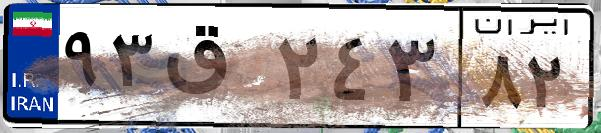2: (270, 28, 330, 110), (525, 38, 570, 115)
3: (385, 28, 445, 110), (110, 28, 158, 98)
4: (330, 28, 385, 110)
8: (475, 38, 525, 113)
9: (57, 26, 110, 100)
ق: (158, 20, 270, 120)
